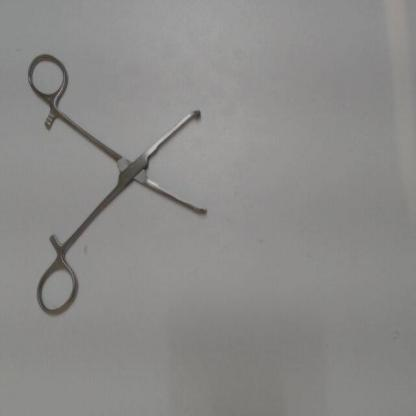Allis Tissue Forceps: (26, 48, 214, 320)
